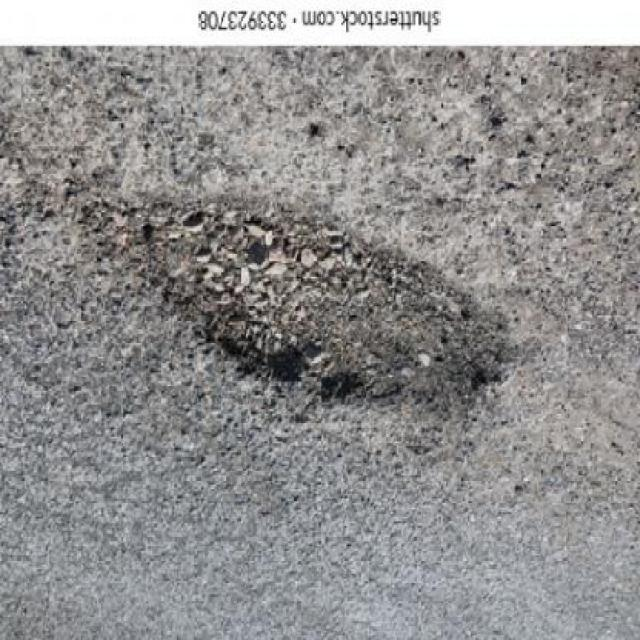pothole: (70, 153, 552, 462)
